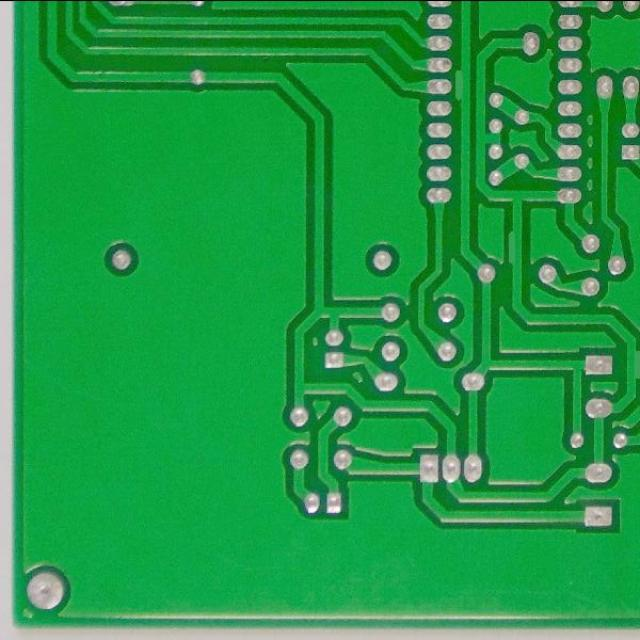Spur: (505, 226, 528, 269), (451, 65, 475, 105), (623, 346, 640, 385)
